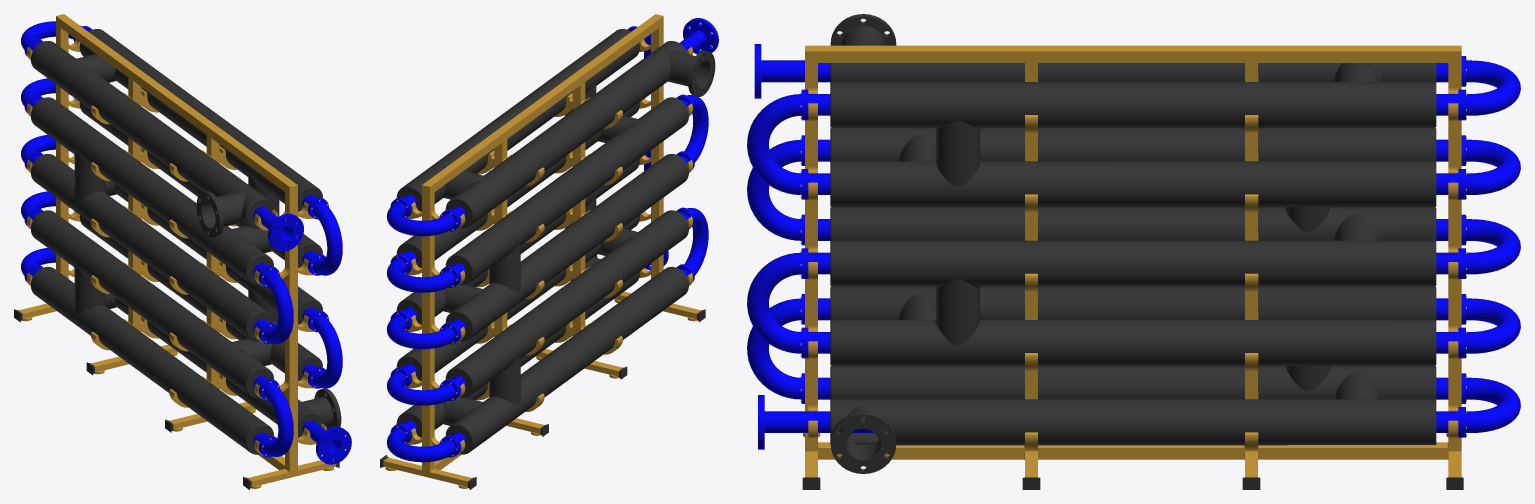
Rendered from pipe_in_pipe.gltf.
The picture shows the model from 3 angles, left to right: view 1: azimuth 30°, elevation 25°; view 2: azimuth 150°, elevation 25°; view 3: azimuth 270°, elevation 25°; orthographic projection. The views are drawn at different scales.
Visible parts, largest first — view 1: Double pipe HE; view 2: Double pipe HE; view 3: Double pipe HE.
Part boxes in pixels (<box>): Double pipe HE: <box>14,14,351,489</box>; Double pipe HE: <box>380,14,718,489</box>; Double pipe HE: <box>747,14,1520,489</box>.
Size of the model in its own units: 0.9 by 2.07 by 3.54.
